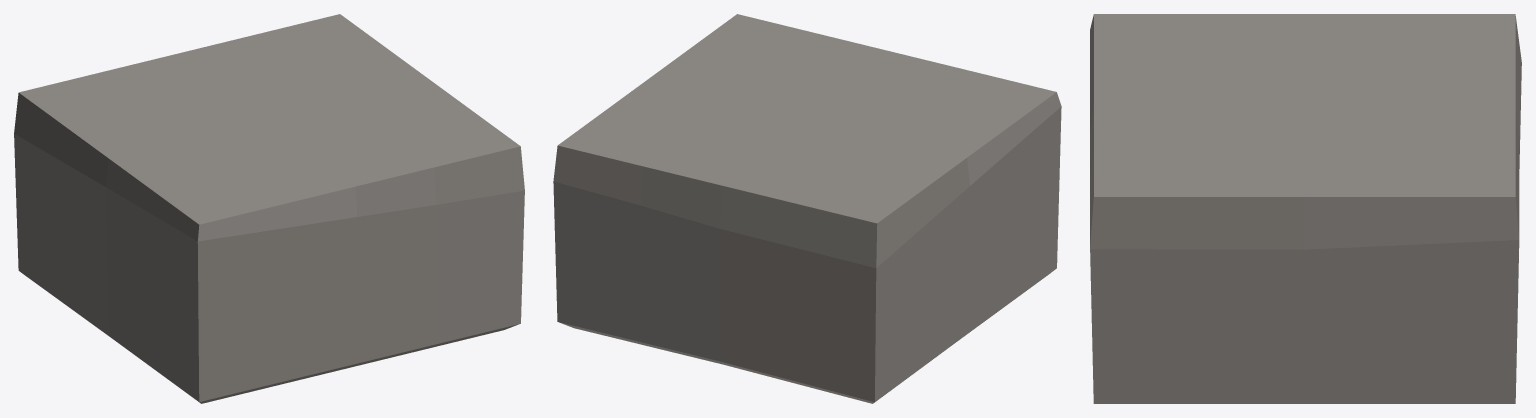
3 renders of one model, left to right at view 1: azimuth 30°, elevation 25°; view 2: azimuth 150°, elevation 25°; view 3: azimuth 270°, elevation 25°, orthographic. The views are drawn at different scales.
Visible parts, largest first — view 1: base-1x1; view 2: base-1x1; view 3: base-1x1.
Boxes of the visible parts, bbox=[...] form: base-1x1: bbox=[14, 14, 524, 403]; base-1x1: bbox=[553, 14, 1061, 403]; base-1x1: bbox=[1090, 14, 1521, 403].
Size of the model in its own units: 1.01 by 0.9862 by 0.5422.
